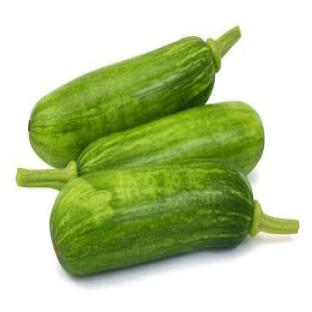Zucchini: (29, 28, 240, 167), (50, 162, 298, 274), (17, 102, 264, 188)
